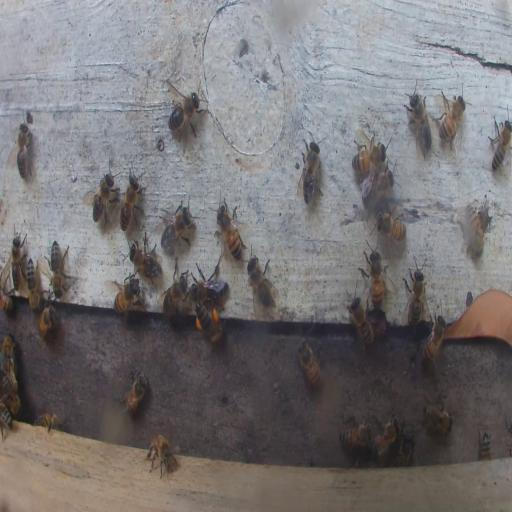bee: (405, 82, 433, 160), (167, 90, 202, 146), (295, 137, 323, 207), (86, 162, 118, 223), (217, 199, 247, 262), (159, 198, 196, 248), (346, 293, 378, 349), (404, 253, 427, 330), (119, 166, 144, 234), (246, 253, 276, 309), (419, 313, 448, 367), (190, 261, 225, 305), (439, 91, 466, 148), (117, 370, 149, 417), (146, 433, 178, 480), (130, 235, 161, 280), (467, 203, 491, 260), (195, 303, 224, 349), (6, 231, 28, 290), (163, 268, 190, 316), (48, 240, 71, 296), (297, 338, 322, 389), (112, 274, 141, 317), (490, 116, 512, 170), (422, 398, 454, 435), (362, 171, 396, 205), (13, 118, 31, 179), (374, 416, 400, 457), (352, 144, 385, 174), (339, 422, 372, 450), (0, 332, 16, 389), (368, 248, 382, 312), (376, 213, 406, 240), (26, 256, 40, 308), (1, 382, 21, 416), (37, 304, 54, 338), (34, 412, 65, 430), (396, 435, 414, 465), (1, 402, 13, 438), (478, 430, 492, 460), (0, 287, 12, 312)
